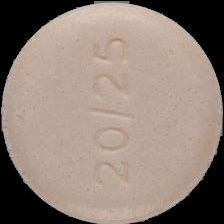43063-130: (0, 0, 224, 224)
